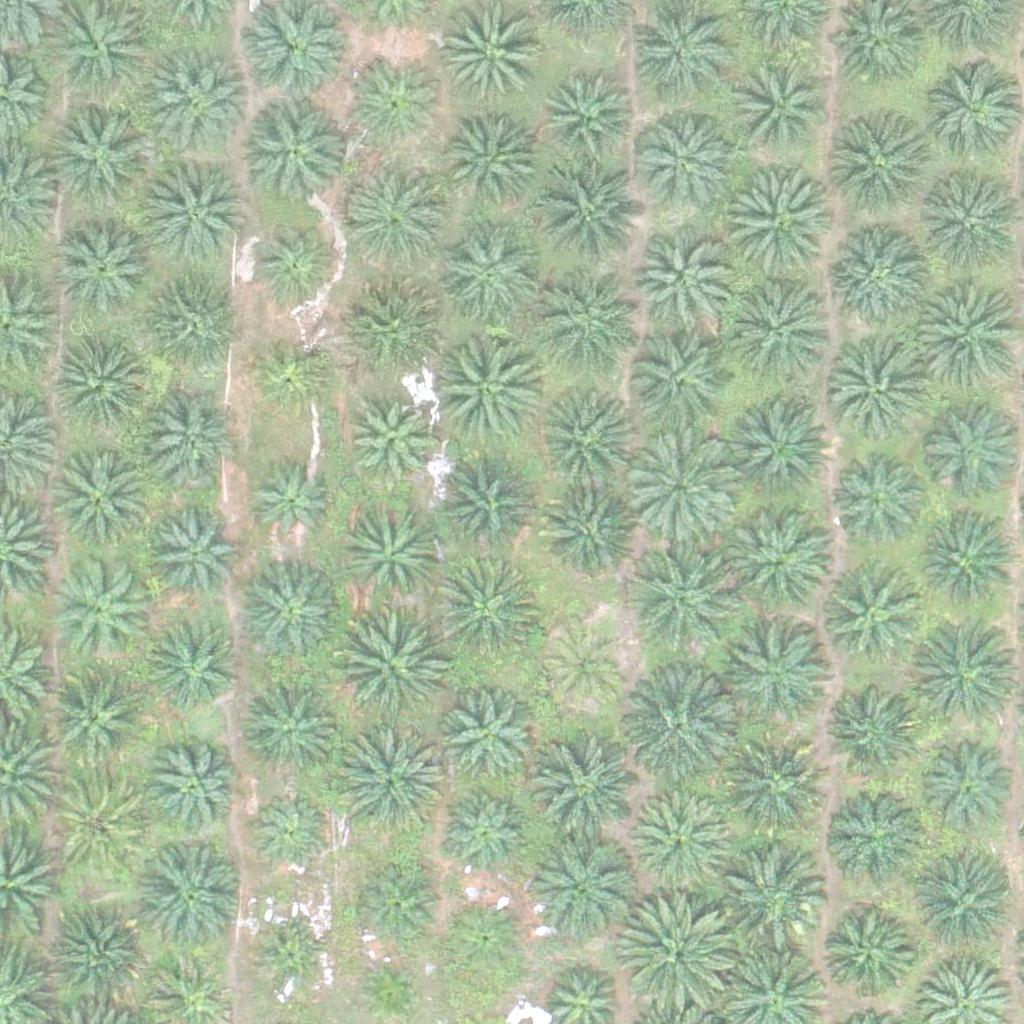Kelapa_Sawit: (622, 545, 735, 659), (423, 331, 536, 444), (722, 169, 835, 282), (715, 838, 828, 951), (622, 671, 735, 784), (332, 724, 445, 837), (333, 612, 446, 725), (620, 891, 732, 1005), (45, 100, 157, 213), (143, 43, 255, 156), (139, 158, 251, 271), (343, 158, 455, 271), (532, 158, 644, 271), (623, 430, 735, 543), (724, 273, 836, 386), (910, 616, 1022, 729), (431, 554, 543, 667), (133, 838, 245, 951), (529, 737, 641, 850), (524, 830, 636, 943), (56, 334, 156, 435), (56, 217, 156, 318), (140, 281, 240, 382), (145, 390, 245, 491), (243, 101, 343, 202), (355, 277, 455, 378), (438, 12, 538, 113), (437, 224, 537, 325), (428, 453, 528, 554), (531, 384, 631, 485), (541, 284, 641, 385), (635, 111, 735, 212), (632, 227, 732, 328), (730, 392, 830, 493), (731, 58, 831, 159), (825, 115, 925, 216), (831, 223, 931, 324), (830, 348, 930, 449), (923, 400, 1023, 501), (815, 904, 915, 1005), (917, 512, 1017, 613), (631, 792, 731, 893), (436, 686, 536, 787), (340, 505, 440, 606), (238, 565, 338, 666), (240, 678, 340, 779), (142, 737, 242, 838), (48, 555, 148, 656), (45, 665, 145, 766), (52, 448, 152, 548), (443, 110, 543, 210), (625, 334, 725, 434), (46, 908, 146, 1008), (915, 861, 1015, 961), (915, 737, 1015, 837), (827, 782, 927, 882), (819, 562, 919, 662), (824, 678, 924, 778), (730, 511, 830, 611), (730, 628, 830, 728), (722, 741, 822, 841), (532, 481, 632, 581), (51, 774, 151, 874), (249, 329, 337, 417), (249, 216, 337, 304), (344, 397, 432, 485), (440, 893, 528, 981), (541, 624, 629, 712), (245, 791, 333, 879), (148, 623, 236, 711), (147, 514, 235, 602), (442, 789, 529, 878), (244, 461, 331, 549), (353, 60, 440, 148), (542, 69, 629, 157), (833, 457, 920, 545), (351, 863, 438, 951), (257, 926, 332, 1001)
